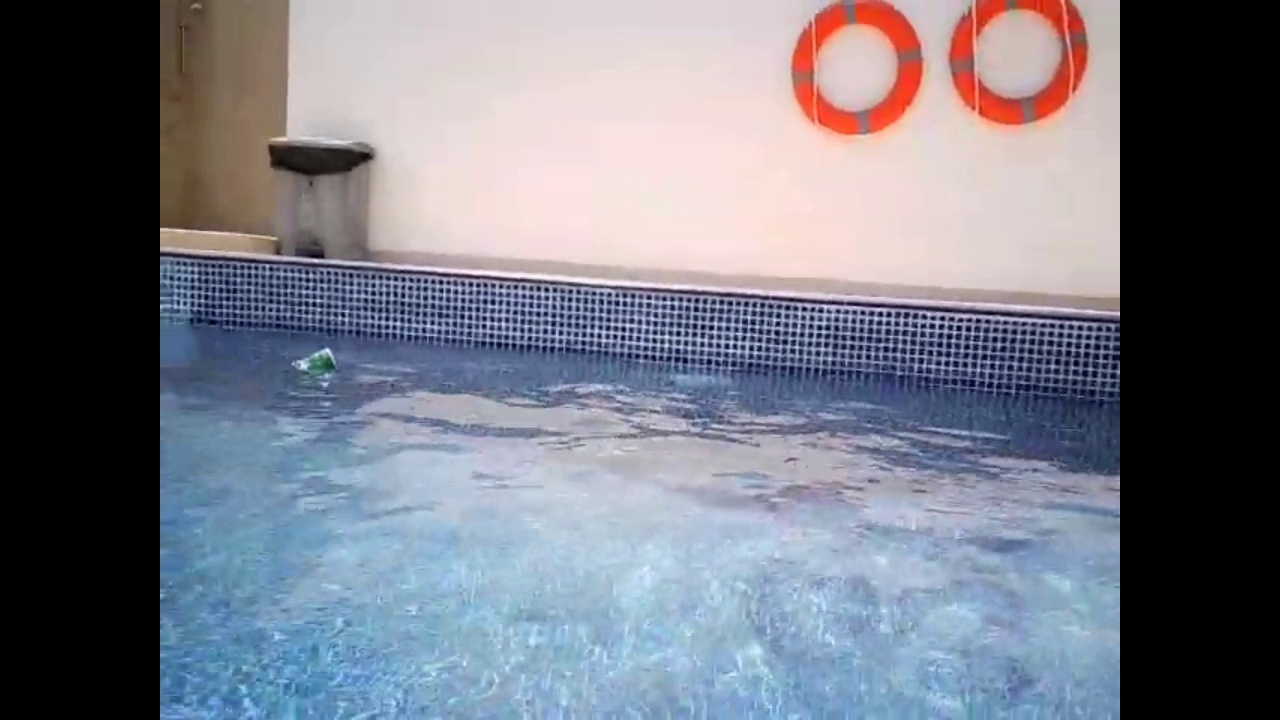debris: (284, 342, 343, 384)
